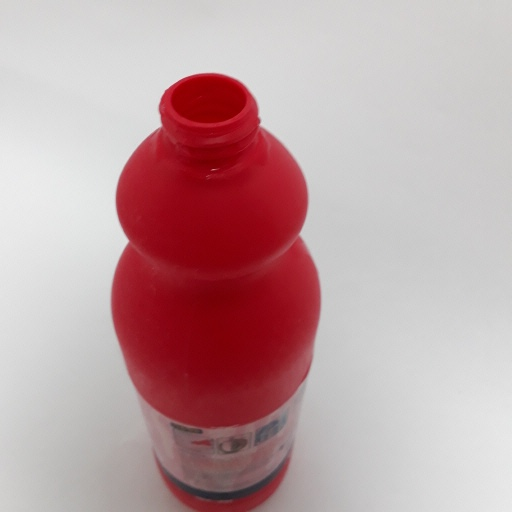Plastic_0: (104, 71, 325, 512)
